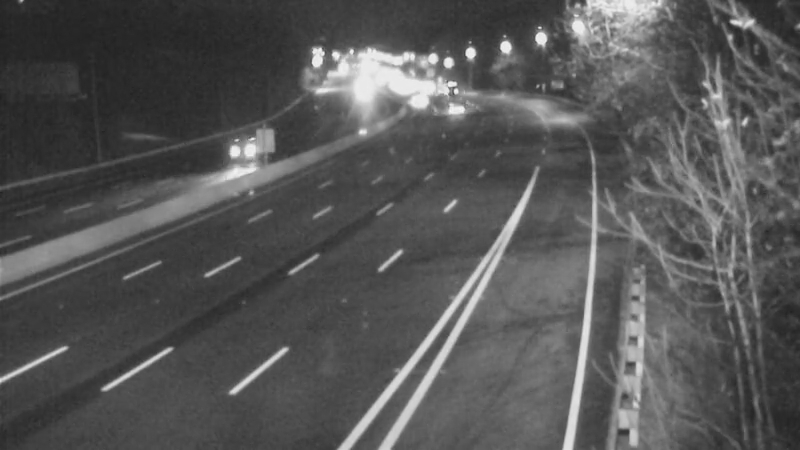vehicle: (201, 115, 281, 195), (423, 61, 473, 111), (395, 78, 445, 128), (427, 87, 477, 137)
